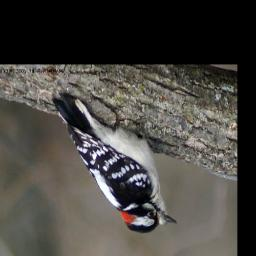Woodpecker: (48, 93, 177, 233)
